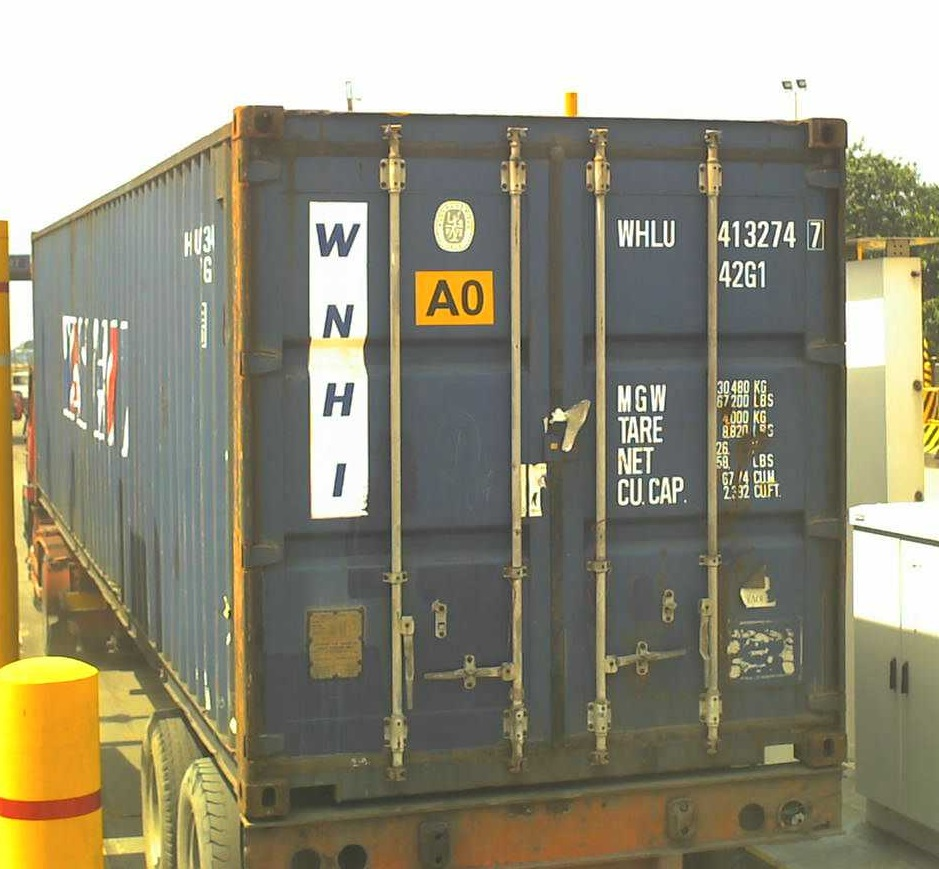container_door: (234, 93, 842, 818)
